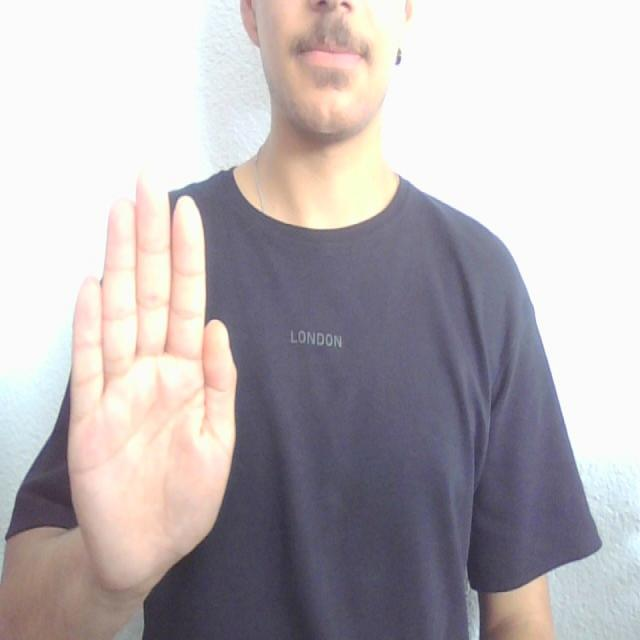Dur: (46, 163, 247, 581)
